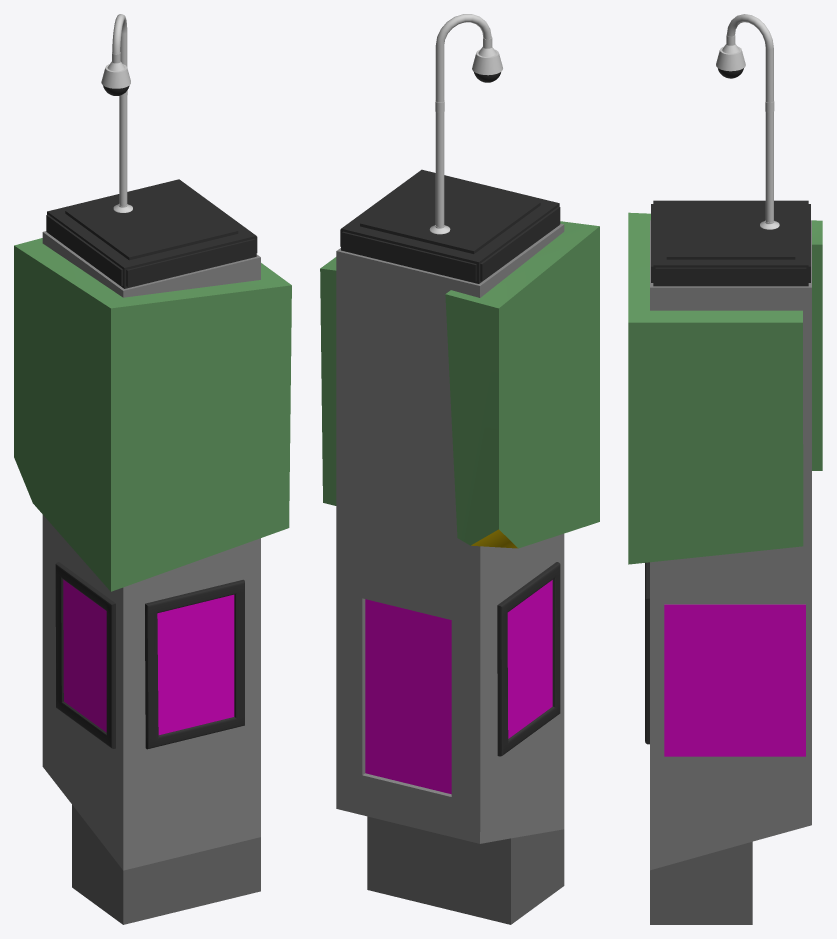
Rendered from H_Information-Stand.fbx.
The picture shows the model from 3 angles, left to right: view 1: azimuth 30°, elevation 25°; view 2: azimuth 150°, elevation 25°; view 3: azimuth 270°, elevation 25°; orthographic projection. The views are drawn at different scales.
Visible parts, largest first — view 1: Information_Stand; view 2: Information_Stand; view 3: Information_Stand.
Part boxes in pixels (<box>): Information_Stand: <box>14,14,291,924</box>; Information_Stand: <box>320,14,599,924</box>; Information_Stand: <box>628,14,822,924</box>.
Bounding box in the file's own units: 153 × 696 × 142.
